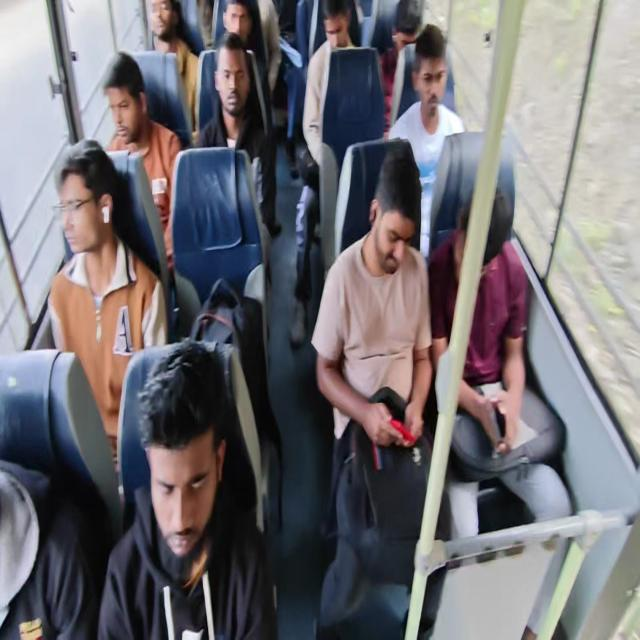person: (310, 148, 447, 636), (97, 338, 277, 638), (428, 185, 573, 540), (47, 138, 169, 498), (289, 1, 362, 348), (387, 24, 465, 258), (194, 32, 281, 236), (102, 51, 183, 262), (146, 0, 200, 132), (378, 0, 423, 138)
